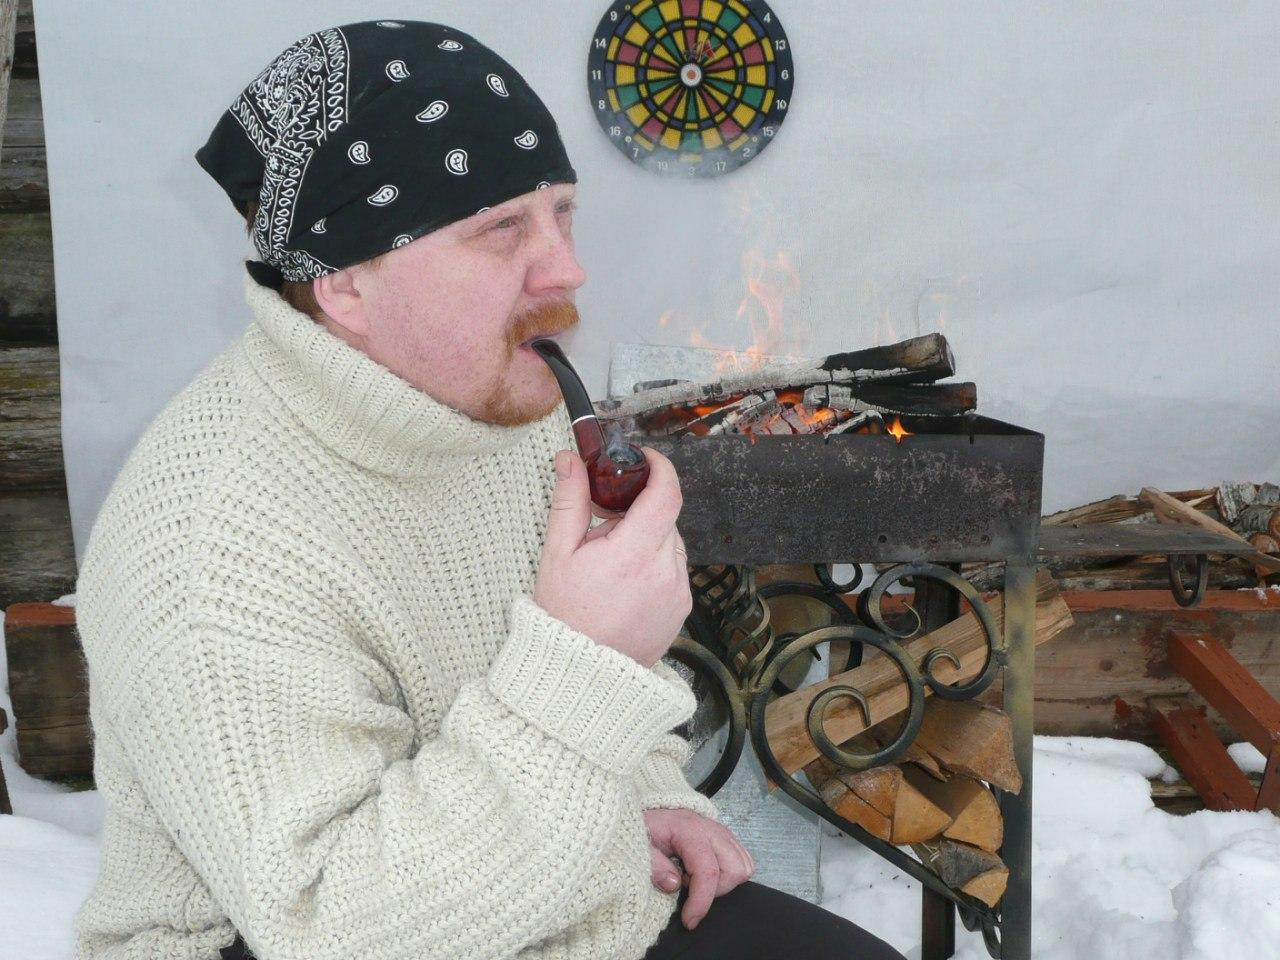trubka: (531, 338, 649, 509)
